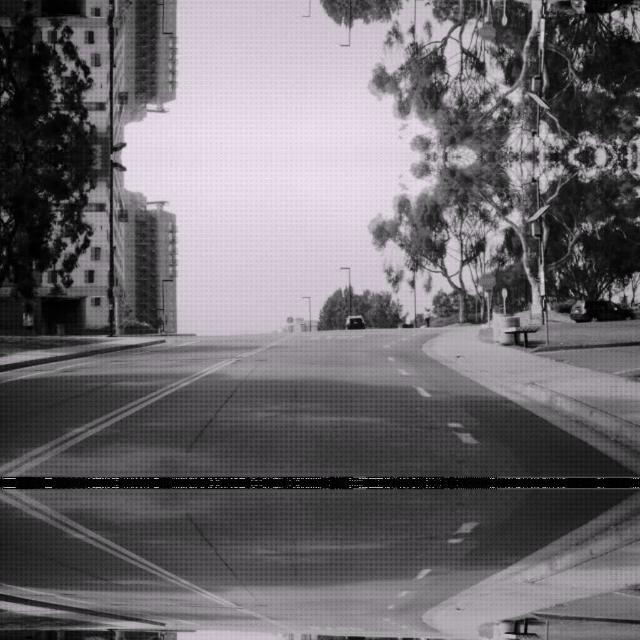stop: (478, 271, 496, 289), (478, 23, 496, 41)
